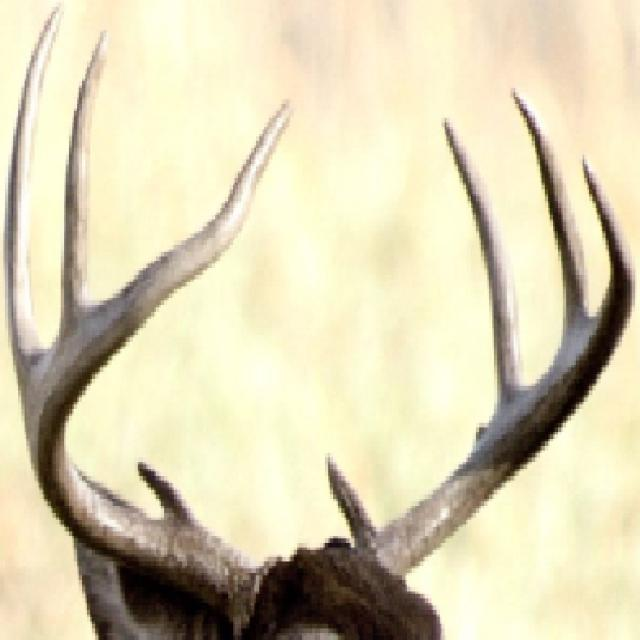L-F: (360, 149, 637, 578)
L-G1: (324, 448, 379, 552)
L-G2: (439, 114, 524, 414)
L-G3: (509, 80, 589, 343)
R-F: (20, 96, 296, 638)
R-G1: (134, 457, 197, 524)
R-G2: (3, 1, 66, 398)
R-G3: (59, 18, 110, 336)
